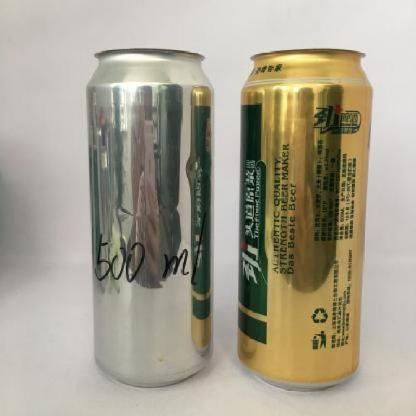Can: (74, 42, 224, 398), (238, 42, 376, 390)
